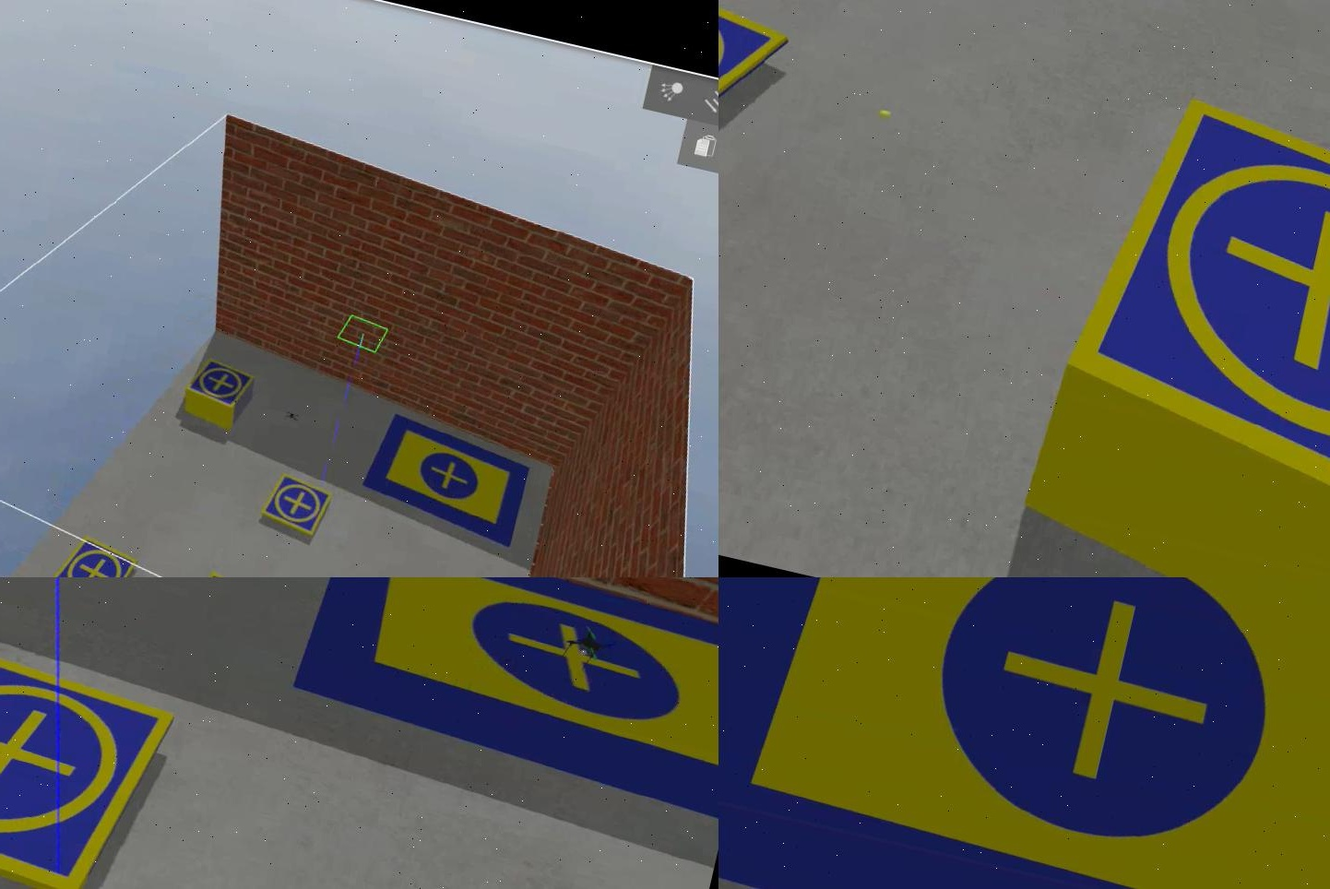large_base: (717, 578, 1328, 889), (285, 578, 717, 812), (353, 411, 531, 547)
small_base: (1039, 85, 1328, 578), (0, 623, 176, 889), (255, 471, 333, 539), (42, 531, 138, 578), (182, 356, 255, 413)
